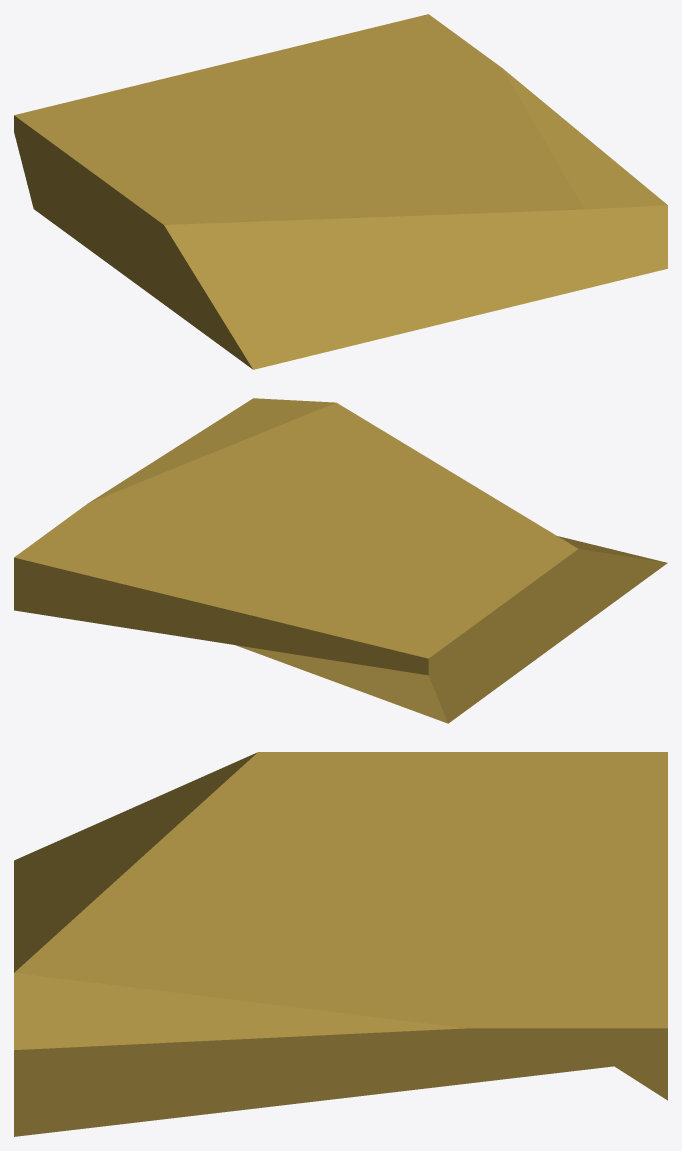
Rendered from plitka2_2.fbx.
3 views of the same model, one above another, from view 1: azimuth 30°, elevation 25°; view 2: azimuth 150°, elevation 25°; view 3: azimuth 270°, elevation 25° (orthographic). The views are drawn at different scales.
Parts seen in each view (by area): view 1: Cube; view 2: Cube; view 3: Cube.
Boxes of the visible parts, <box> form: Cube: <box>14,14,667,369</box>; Cube: <box>14,398,667,723</box>; Cube: <box>14,752,667,1136</box>.
Bounding box in the file's own units: 20.74 × 3.8 × 20.74.
